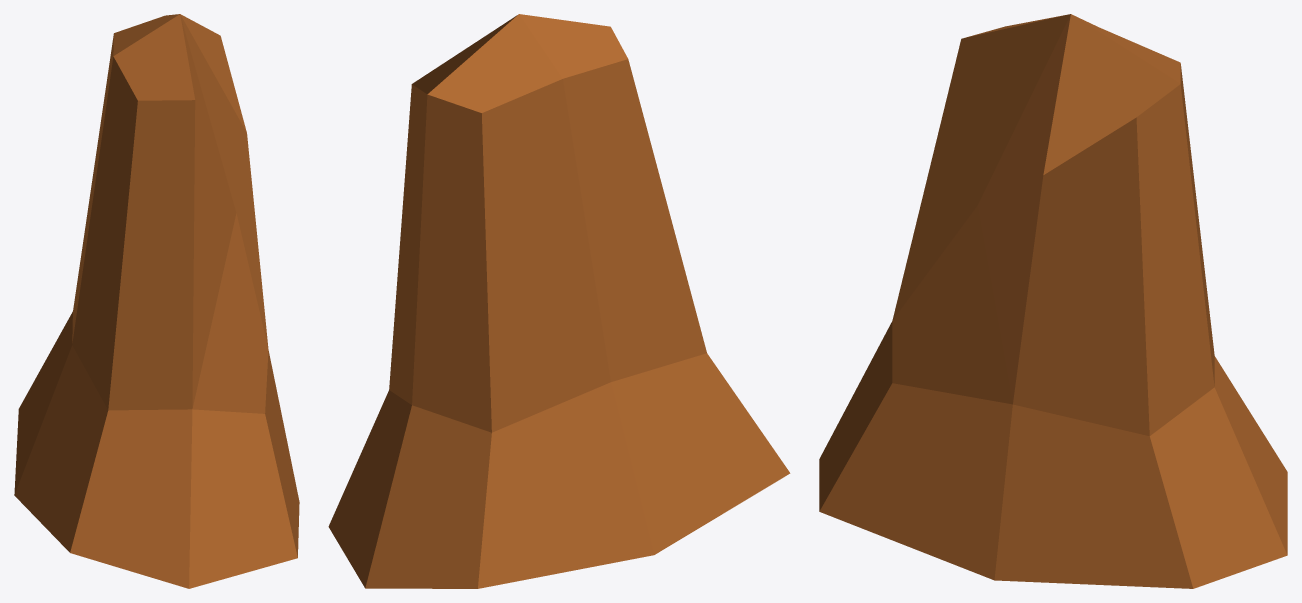
Rendered from LargeRockVar.fbx.
The picture shows the model from 3 angles, left to right: view 1: azimuth 30°, elevation 25°; view 2: azimuth 150°, elevation 25°; view 3: azimuth 270°, elevation 25°; orthographic projection. The views are drawn at different scales.
Parts seen in each view (by area): view 1: LargeRockVariant; view 2: LargeRockVariant; view 3: LargeRockVariant.
Part boxes in pixels (box(x1,y1,x2,y2)): LargeRockVariant: box(14, 14, 299, 588); LargeRockVariant: box(328, 14, 790, 588); LargeRockVariant: box(819, 14, 1287, 588).
Size of the model in its own units: 0.4869 by 0.7343 by 0.5969.
Materials: 1 (1 with a texture image).
